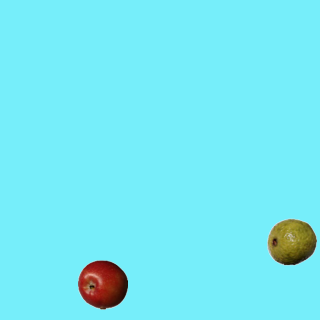Apple Braeburn: (77, 259, 127, 309)
Guava: (266, 216, 316, 266)
